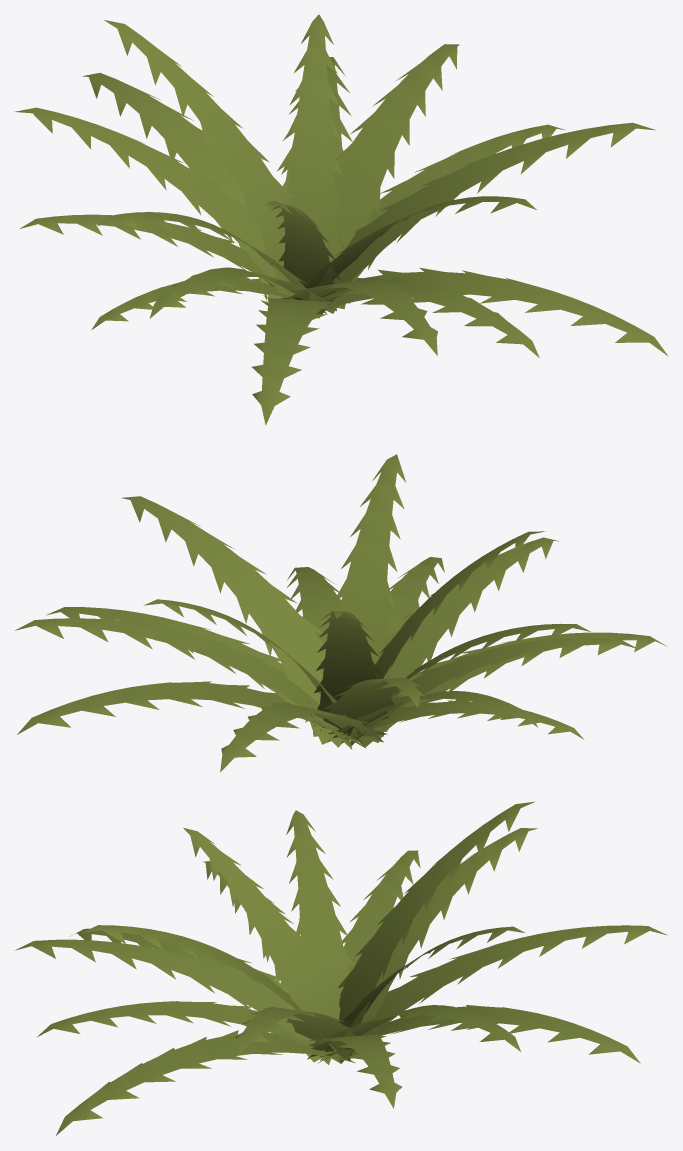
Rendered from ErvaMedicinal.fbx.
3 views of the same model, one above another, from view 1: azimuth 30°, elevation 25°; view 2: azimuth 150°, elevation 25°; view 3: azimuth 270°, elevation 25° (orthographic). The views are drawn at different scales.
Parts seen in each view (by area): view 1: pPlane19; view 2: pPlane19; view 3: pPlane19.
Boxes of the visible parts, <box> form: pPlane19: <box>14,14,668,425</box>; pPlane19: <box>15,454,667,772</box>; pPlane19: <box>15,801,667,1135</box>.
Size of the model in its own units: 198 by 80.35 by 227.
